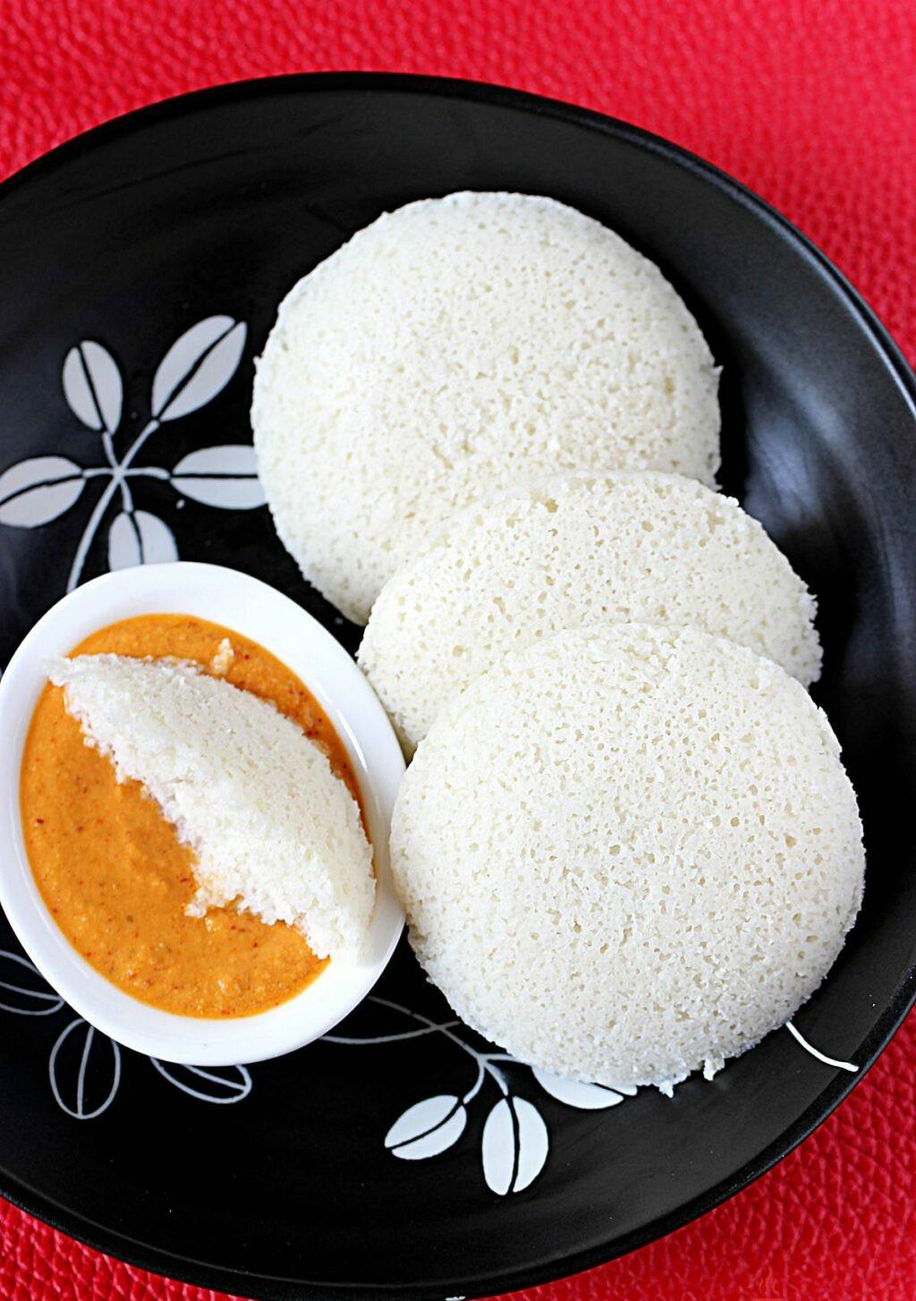Idli: (393, 622, 866, 1079), (255, 194, 721, 632), (370, 471, 821, 765)
